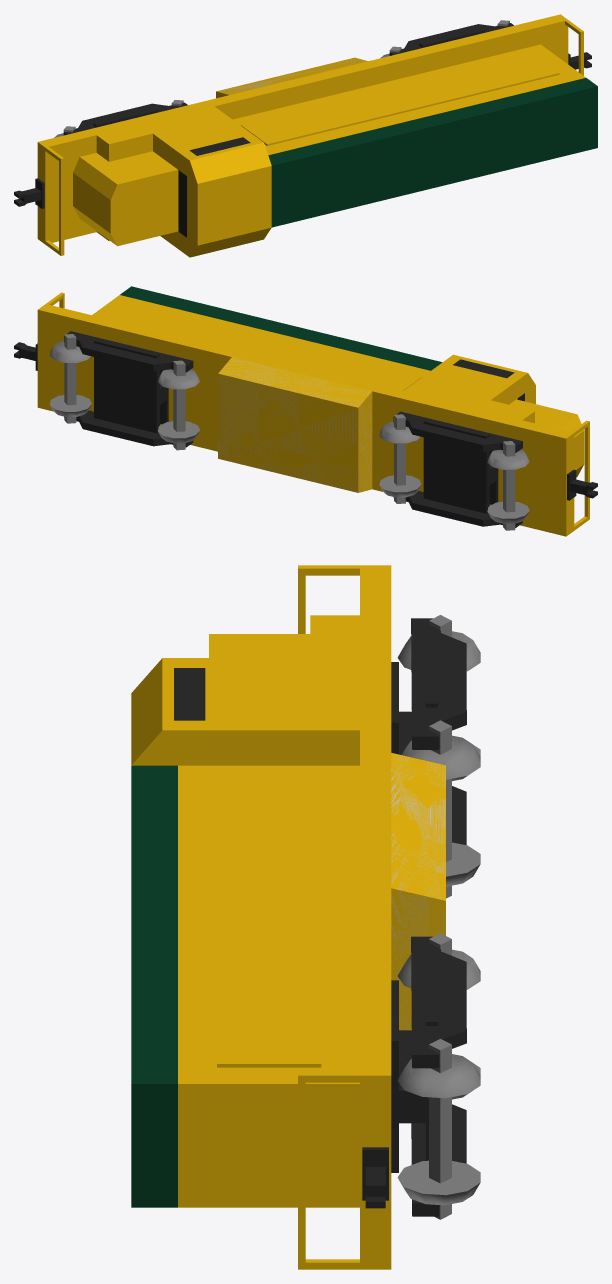
File: locomotive_2_left.dae
3 views of the same model, one above another, from view 1: azimuth 30°, elevation 25°; view 2: azimuth 150°, elevation 25°; view 3: azimuth 270°, elevation 25° (orthographic). The views are drawn at different scales.
Visible parts, largest first — view 1: coords_ME_ID166_MA_Locomotive, coords_ME_ID172_MA_Top, coords_ME_ID180_MA_Locomotive, coords_ME_ID150_MA_Locomotive, coords_ME_ID158_MA_Locomotive, coords_ME_ID58_MA_Frame, coords_ME_ID143_MA_Frame, coords_ME_ID194_MA_Windows, coords_ME_ID206_MA_Windows, coords_ME_ID65_MA_Coupler, coords_ME_ID131_MA_Frame, coords_ME_ID44_MA_Frame (+1 smaller); view 2: coords_ME_ID150_MA_Locomotive, coords_ME_ID158_MA_Locomotive, coords_ME_ID166_MA_Locomotive, coords_ME_ID180_MA_Locomotive, coords_ME_ID44_MA_Frame, coords_ME_ID131_MA_Frame, coords_ME_ID158_MA_Fuel_Tank, coords_ME_ID172_MA_Top, coords_ME_ID143_MA_Frame, coords_ME_ID58_MA_Frame, coords_ME_ID52_MA_Frame, coords_ME_ID137_MA_Frame (+14 smaller); view 3: coords_ME_ID166_MA_Locomotive, coords_ME_ID180_MA_Locomotive, coords_ME_ID150_MA_Locomotive, coords_ME_ID172_MA_Top, coords_ME_ID158_MA_Locomotive, coords_ME_ID143_MA_Frame, coords_ME_ID58_MA_Frame, coords_ME_ID131_MA_Frame, coords_ME_ID158_MA_Fuel_Tank, coords_ME_ID112_MA_Wheels, coords_ME_ID100_MA_Wheels, coords_ME_ID118_MA_Wheels (+6 smaller).
Boxes of the visible parts, box(x1,y1,x2,y2) form: coords_ME_ID166_MA_Locomotive: box(45, 21, 585, 257); coords_ME_ID172_MA_Top: box(268, 78, 597, 227); coords_ME_ID180_MA_Locomotive: box(241, 54, 559, 145); coords_ME_ID150_MA_Locomotive: box(37, 14, 583, 255); coords_ME_ID158_MA_Locomotive: box(216, 57, 367, 98); coords_ME_ID58_MA_Frame: box(63, 102, 187, 135); coords_ME_ID143_MA_Frame: box(389, 23, 513, 55); coords_ME_ID194_MA_Windows: box(179, 170, 186, 237); coords_ME_ID206_MA_Windows: box(189, 137, 250, 155); coords_ME_ID65_MA_Coupler: box(14, 188, 41, 206); coords_ME_ID131_MA_Frame: box(419, 28, 484, 47); coords_ME_ID44_MA_Frame: box(93, 108, 158, 127); coords_ME_ID150_MA_Locomotive: box(37, 292, 589, 536); coords_ME_ID158_MA_Locomotive: box(218, 357, 372, 492); coords_ME_ID166_MA_Locomotive: box(92, 295, 587, 526); coords_ME_ID180_MA_Locomotive: box(107, 304, 421, 390); coords_ME_ID44_MA_Frame: box(423, 419, 498, 513); coords_ME_ID131_MA_Frame: box(94, 338, 168, 433); coords_ME_ID158_MA_Fuel_Tank: box(218, 358, 372, 492); coords_ME_ID172_MA_Top: box(120, 286, 442, 370); coords_ME_ID143_MA_Frame: box(64, 331, 193, 372); coords_ME_ID58_MA_Frame: box(393, 411, 522, 452); coords_ME_ID52_MA_Frame: box(393, 490, 522, 527); coords_ME_ID137_MA_Frame: box(64, 410, 193, 447); coords_ME_ID166_MA_Locomotive: box(131, 568, 359, 1207); coords_ME_ID180_MA_Locomotive: box(217, 778, 321, 1067); coords_ME_ID150_MA_Locomotive: box(298, 565, 391, 1269); coords_ME_ID172_MA_Top: box(131, 765, 177, 1207); coords_ME_ID158_MA_Locomotive: box(391, 753, 445, 1030); coords_ME_ID143_MA_Frame: box(411, 936, 466, 1068); coords_ME_ID58_MA_Frame: box(411, 618, 466, 749); coords_ME_ID131_MA_Frame: box(391, 961, 437, 1172); coords_ME_ID158_MA_Fuel_Tank: box(391, 753, 445, 1030); coords_ME_ID112_MA_Wheels: box(429, 1039, 451, 1219); coords_ME_ID100_MA_Wheels: box(397, 1160, 480, 1205); coords_ME_ID118_MA_Wheels: box(397, 1054, 480, 1098).
Bounding box in the file's own units: 170 × 27.5 × 44.89.
